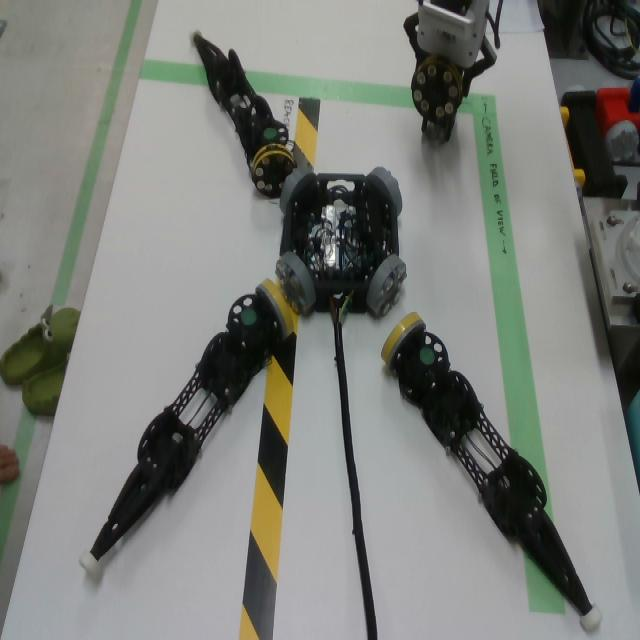body: (280, 173, 399, 313)
body_connector: (275, 252, 316, 316), (366, 255, 407, 317), (367, 167, 403, 217), (279, 169, 316, 215)
gripper: (403, 0, 497, 97)
leg: (381, 311, 603, 632), (77, 279, 293, 580), (188, 28, 297, 197), (411, 56, 463, 141)
leg_connector: (411, 56, 462, 120), (249, 144, 297, 199), (381, 312, 426, 369), (255, 279, 294, 339)
leg_marker: (242, 308, 256, 325), (420, 348, 434, 364), (264, 128, 277, 139)
